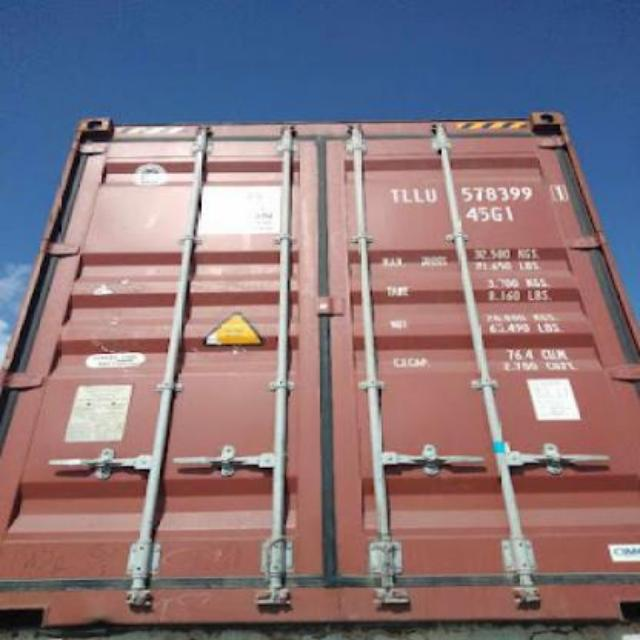1: (552, 183, 568, 199)
3: (496, 183, 508, 201)
5: (460, 183, 472, 201)
7: (472, 180, 484, 203)
8: (484, 182, 496, 200)
9: (520, 181, 534, 207), (508, 180, 520, 203)
L: (398, 181, 412, 205), (412, 182, 424, 205)
T: (388, 182, 400, 204)
U: (424, 179, 436, 205)
